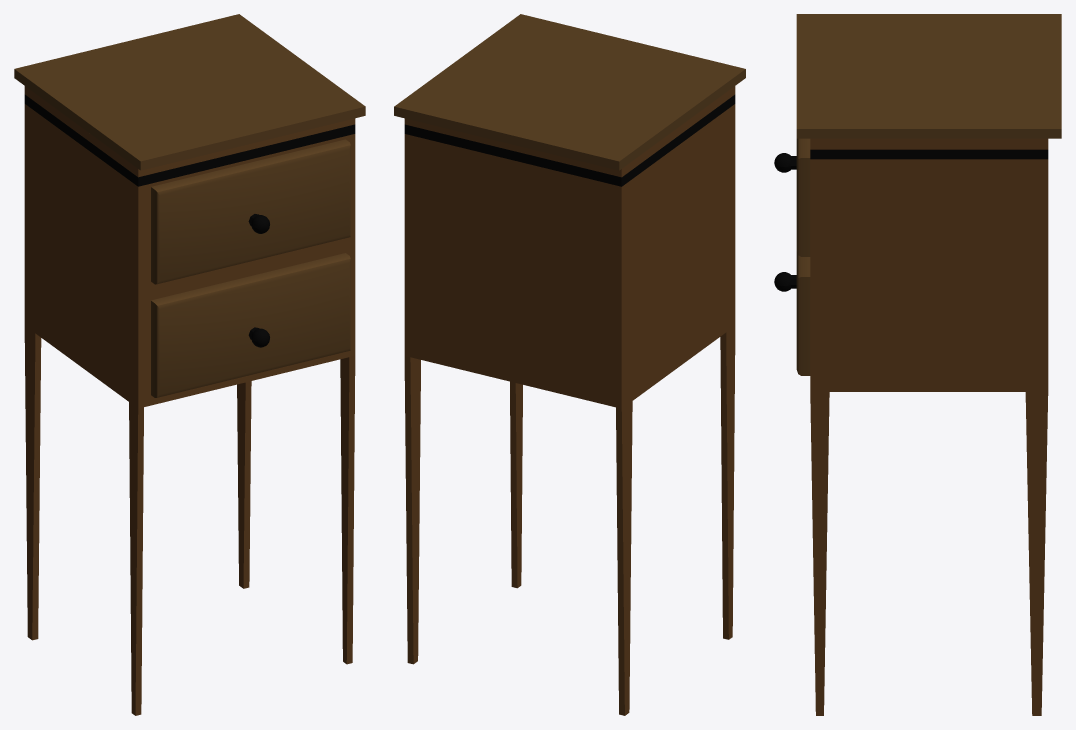
The model's file is MUEBLE_Mocho.fbx.
The picture shows the model from 3 angles, left to right: view 1: azimuth 30°, elevation 25°; view 2: azimuth 150°, elevation 25°; view 3: azimuth 270°, elevation 25°; orthographic projection. The views are drawn at different scales.
Visible parts, largest first — view 1: Cube.011, Cube.016, Cube.012; view 2: Cube.011, Cube.012; view 3: Cube.011, Cube.012, Cube.016.
Boxes of the visible parts, x1,y1,x2,y2 form: Cube.011: [24, 86, 355, 715]; Cube.016: [151, 139, 350, 397]; Cube.012: [14, 14, 365, 170]; Cube.011: [404, 86, 735, 715]; Cube.012: [394, 14, 745, 170]; Cube.011: [810, 138, 1048, 715]; Cube.012: [796, 14, 1061, 138]; Cube.016: [774, 138, 810, 375].
Bounding box in the file's own units: 193 × 461 × 204.
